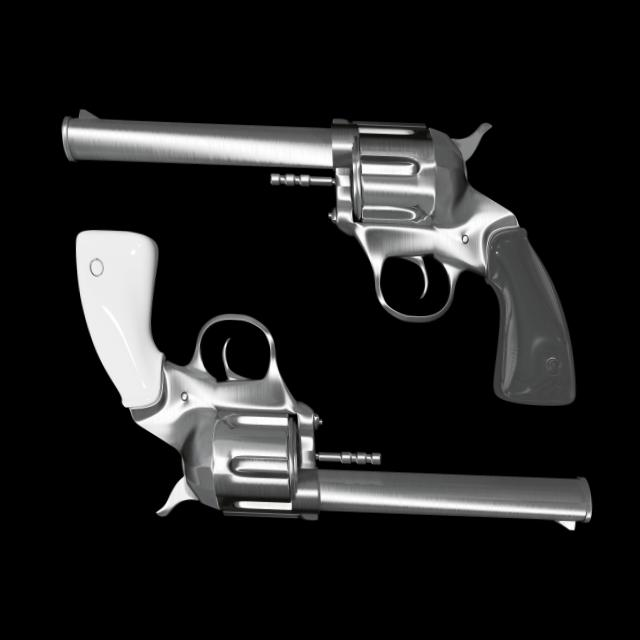handgun: (71, 226, 595, 532), (55, 97, 575, 401)
